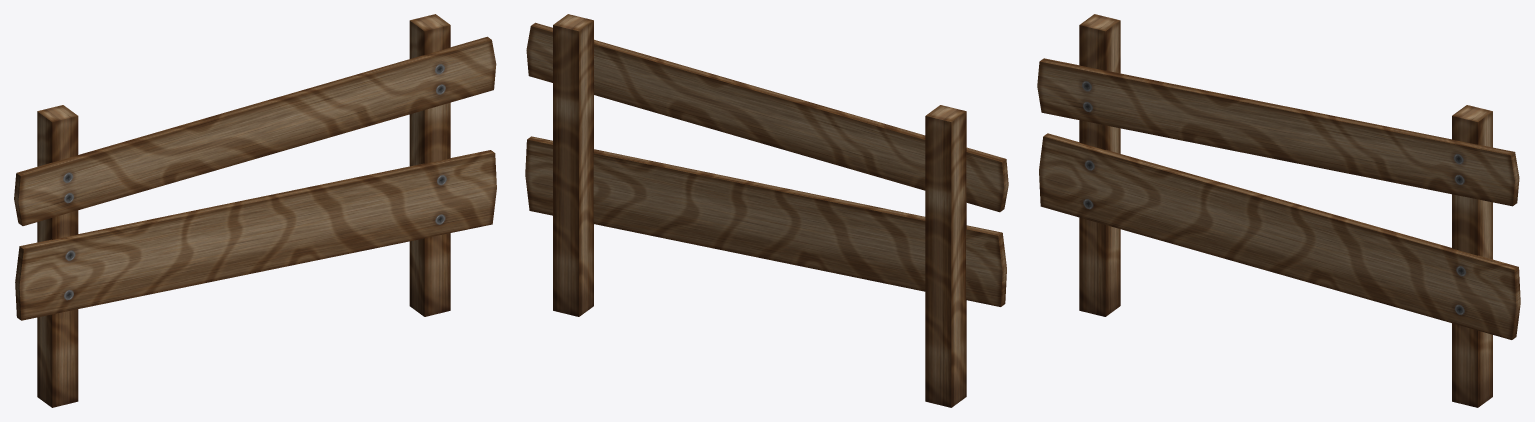
The model's file is FenceC.fbx.
3 views of the same model, side by side, from view 1: azimuth 30°, elevation 25°; view 2: azimuth 150°, elevation 25°; view 3: azimuth 330°, elevation 25° (orthographic).
Parts seen in each view (by area): view 1: FenceC; view 2: FenceC; view 3: FenceC.
Part boxes in pixels (left/top/right/bottom): FenceC: left=14, top=14, right=496, bottom=407; FenceC: left=525, top=14, right=1008, bottom=407; FenceC: left=1037, top=14, right=1520, bottom=407.
Size of the model in its own units: 4.24 by 2.42 by 0.2956.
